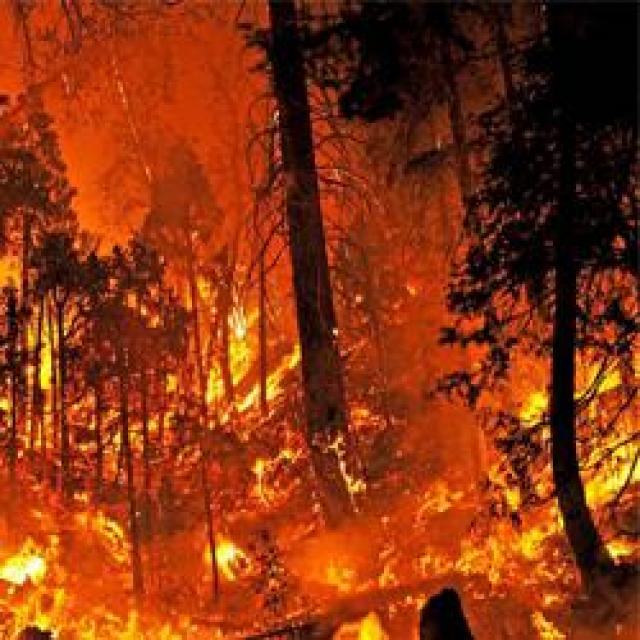fire: (0, 504, 396, 636), (454, 364, 640, 602), (184, 278, 298, 478)
